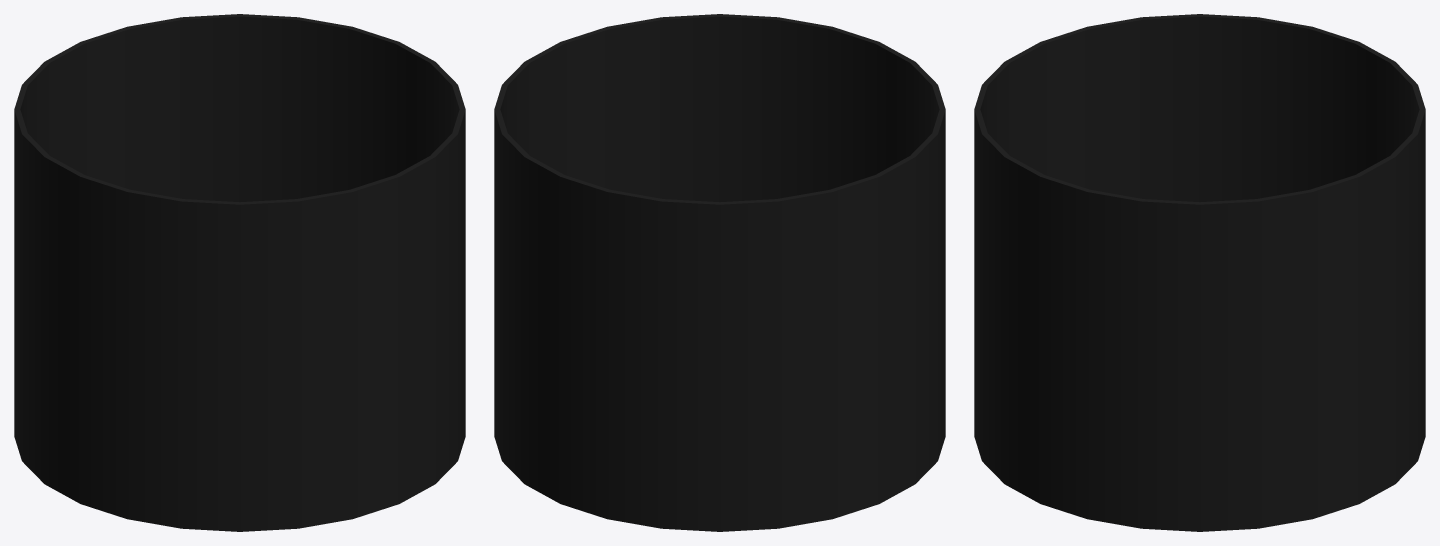
File: aquarius_engine_mount_s1p5_1_fairing3.obj
3 views of the same model, side by side, from view 1: azimuth 30°, elevation 25°; view 2: azimuth 150°, elevation 25°; view 3: azimuth 270°, elevation 25° (orthographic).
Parts seen in each view (by area): view 1: fairing3; view 2: fairing3; view 3: fairing3.
Part boxes in pixels (box(x1,y1,x2,y2)): fairing3: box(14, 14, 465, 531); fairing3: box(494, 14, 945, 531); fairing3: box(974, 14, 1425, 531).
Size of the model in its own units: 1.88 by 1.5 by 1.88.
